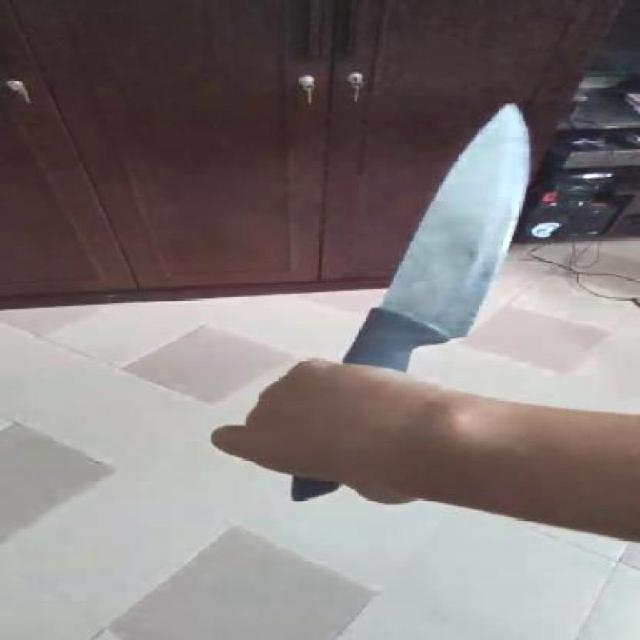knife: (321, 106, 554, 366)
